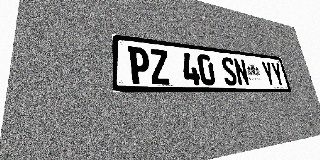0: (197, 54, 216, 85)
4: (181, 52, 201, 85)
N: (233, 58, 250, 86)
P: (128, 46, 151, 84)
S: (220, 56, 238, 86)
Y: (261, 61, 276, 86), (270, 62, 285, 87)
Z: (149, 48, 171, 85)
